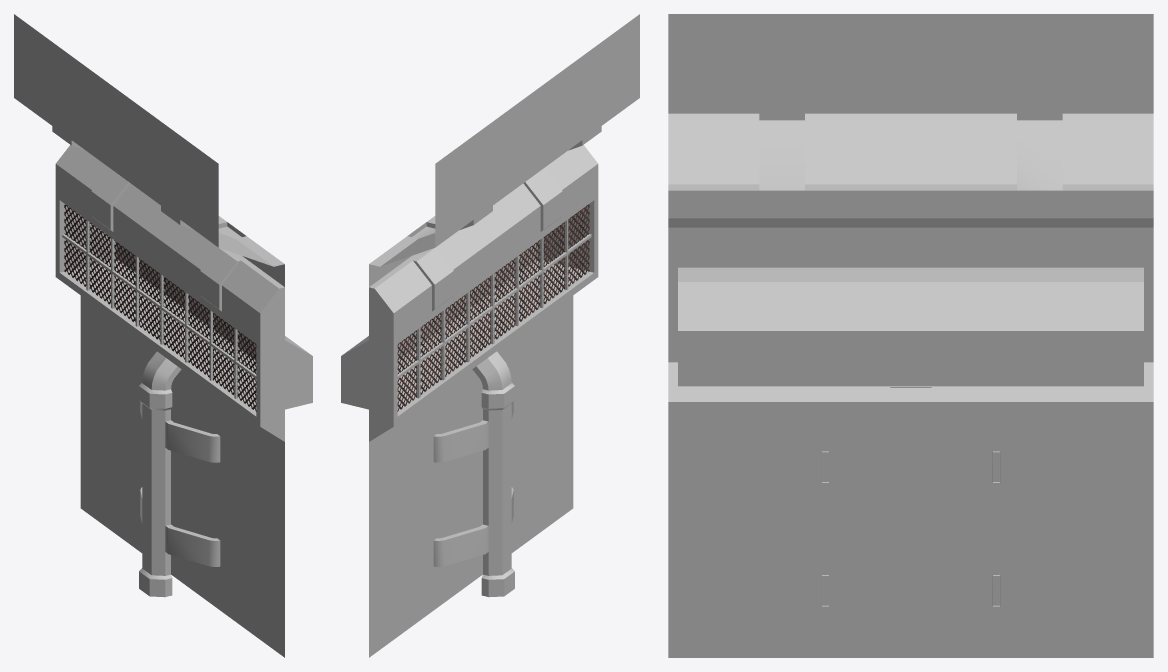
Rendered from teaser_corpse_room_default.dae.
3 views of the same model, side by side, from view 1: azimuth 30°, elevation 25°; view 2: azimuth 150°, elevation 25°; view 3: azimuth 270°, elevation 25° (orthographic). The views are drawn at different scales.
Visible parts, largest first — view 1: default, grating; view 2: default, grating; view 3: default.
Boxes of the visible parts, box(x1,y1,x2,y2) form: default: box(14, 14, 312, 657); grating: box(64, 204, 256, 411); default: box(341, 14, 639, 657); grating: box(397, 204, 589, 411); default: box(668, 14, 1153, 657).
Size of the model in its own units: 1.11 by 5.51 by 4.
